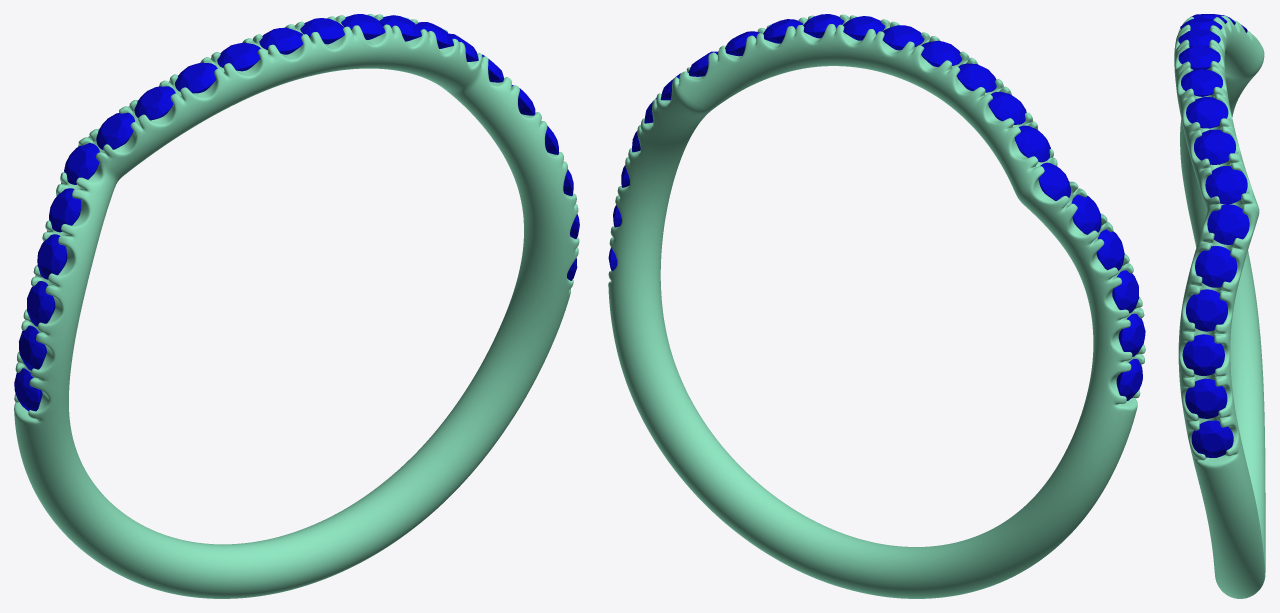
3 views of the same model, side by side, from view 1: azimuth 30°, elevation 25°; view 2: azimuth 150°, elevation 25°; view 3: azimuth 270°, elevation 25° (orthographic). The views are drawn at different scales.
Parts seen in each view (by area): view 1: Metal03, Diamond_Band.004, Diamond_Band.005, Diamond_Band.003, Diamond_Band.007, Diamond_Band.006, Diamond_Band.002, Diamond_Band.008, Diamond_Band.001, Diamond_Band.009, Diamond_Band, Diamond_Band.010 (+1 smaller); view 2: Metal03, Diamond_Band.004, Diamond_Band.006, Diamond_Band.003, Diamond_Band.005, Diamond_Band.002, Diamond_Band.007, Diamond_Band.008, Diamond_Band.001, Diamond_Band.009, Diamond_Band, Diamond_Band.010; view 3: Metal03, Diamond_Band.014, Diamond_Band.013, Diamond_Band.015, Diamond_Band.016, Diamond_Band.012, Diamond_Band.017, Diamond_Band.011, Diamond_Band.018, Diamond_Band.019, Diamond_Band.020, Diamond_Band.021 (+3 smaller).
Boxes of the visible parts, left/top/right/bottom form: Metal03: left=14, top=14, right=579, bottom=598; Diamond_Band.004: left=96, top=112, right=134, bottom=149; Diamond_Band.005: left=64, top=143, right=99, bottom=184; Diamond_Band.003: left=134, top=86, right=175, bottom=120; Diamond_Band.007: left=37, top=234, right=67, bottom=279; Diamond_Band.006: left=49, top=188, right=81, bottom=232; Diamond_Band.002: left=175, top=62, right=217, bottom=93; Diamond_Band.008: left=27, top=281, right=55, bottom=326; Diamond_Band.001: left=217, top=42, right=260, bottom=71; Diamond_Band.009: left=19, top=325, right=46, bottom=370; Diamond_Band: left=259, top=27, right=302, bottom=54; Diamond_Band.010: left=14, top=368, right=42, bottom=411; Metal03: left=608, top=14, right=1145, bottom=598; Diamond_Band.004: left=1014, top=125, right=1050, bottom=162; Diamond_Band.006: left=1071, top=194, right=1101, bottom=234; Diamond_Band.003: left=988, top=91, right=1026, bottom=124; Diamond_Band.005: left=1038, top=162, right=1070, bottom=200; Diamond_Band.002: left=957, top=63, right=996, bottom=92; Diamond_Band.007: left=1096, top=229, right=1124, bottom=270; Diamond_Band.008: left=1112, top=270, right=1139, bottom=313; Diamond_Band.001: left=921, top=40, right=962, bottom=66; Diamond_Band.009: left=1118, top=313, right=1145, bottom=356; Diamond_Band: left=882, top=25, right=924, bottom=50; Diamond_Band.010: left=1116, top=359, right=1142, bottom=400; Metal03: left=1174, top=15, right=1265, bottom=598; Diamond_Band.014: left=1186, top=289, right=1227, bottom=331; Diamond_Band.013: left=1182, top=334, right=1224, bottom=375; Diamond_Band.015: left=1195, top=246, right=1237, bottom=287; Diamond_Band.016: left=1207, top=204, right=1249, bottom=244; Diamond_Band.012: left=1185, top=378, right=1227, bottom=418; Diamond_Band.017: left=1205, top=166, right=1247, bottom=204; Diamond_Band.011: left=1191, top=420, right=1233, bottom=457; Diamond_Band.018: left=1194, top=129, right=1235, bottom=164; Diamond_Band.019: left=1186, top=97, right=1228, bottom=128; Diamond_Band.020: left=1181, top=69, right=1222, bottom=96; Diamond_Band.021: left=1178, top=45, right=1220, bottom=70.
Size of the model in its own units: 20.73 by 20.79 by 3.25.
